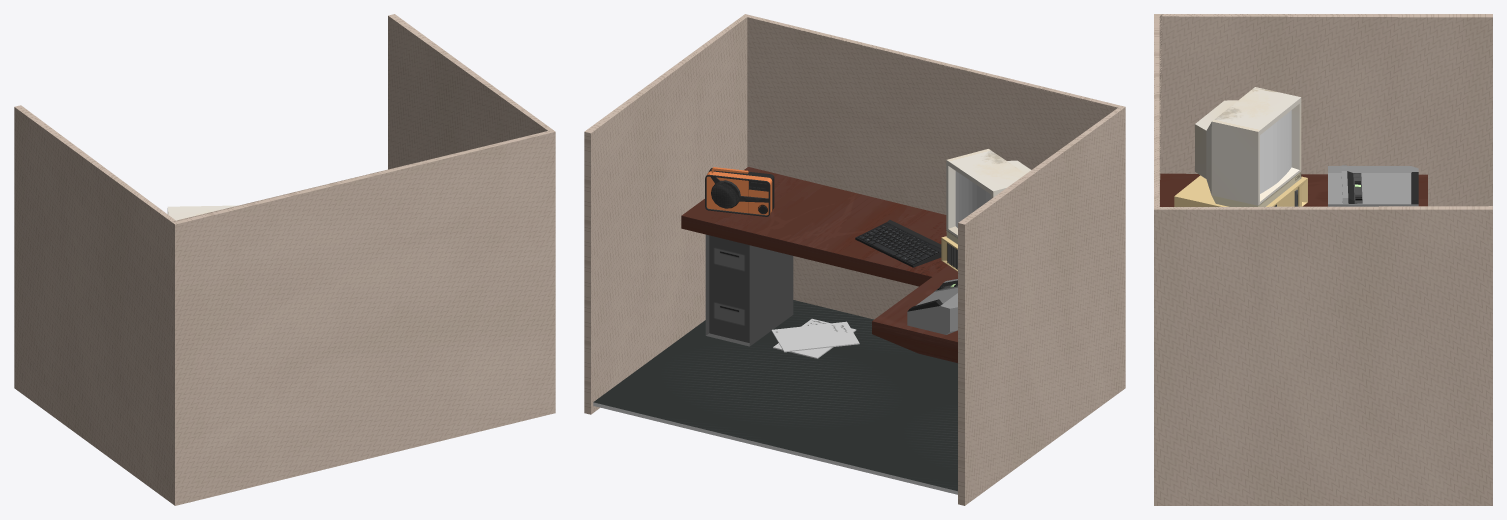
Rendered from ASCD.glb.
3 views of the same model, side by side, from view 1: azimuth 30°, elevation 25°; view 2: azimuth 150°, elevation 25°; view 3: azimuth 270°, elevation 25° (orthographic). The views are drawn at different scales.
Visible parts, largest first — view 1: Cube.002; view 2: Cube.002, Cube.013, Cube.005, Cube.012, Cube.008, Cube.007, Teclado, Papeis, Cube.001, Cube.010; view 3: Cube.002, Cube.007, Cube.001, Cube.010, Cube.005, Cube.006.
Boxes of the visible parts, x1,y1,x2,y2 form: Cube.002: (14,14,555,505); Cube.002: (584,14,1125,505); Cube.013: (593,300,957,494); Cube.005: (681,167,957,363); Cube.012: (705,234,793,346); Cube.008: (705,167,774,216); Cube.007: (946,149,1030,244); Teclado: (855,220,941,267); Papeis: (771,318,859,358); Cube.001: (907,279,957,334); Cube.010: (955,171,991,227); Cube.002: (1154,14,1492,505); Cube.007: (1195,87,1301,206); Cube.001: (1328,165,1418,206); Cube.010: (1260,110,1291,193); Cube.005: (1160,173,1427,206); Cube.006: (1174,175,1307,206).
Size of what is drawn, in the model's own units: 2.92 by 2.06 by 2.13.
Materials: 26 (15 with a texture image).
